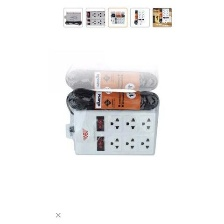three_eye_plug: (61, 98, 165, 159)
